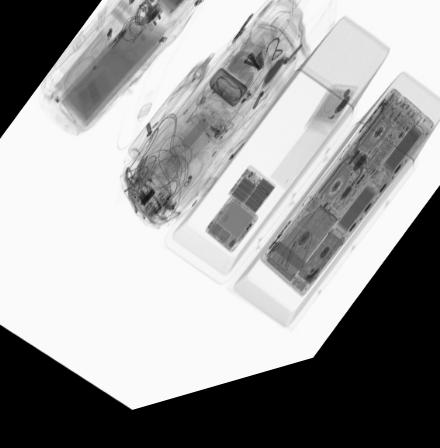Powerbank: (226, 179, 278, 230)
